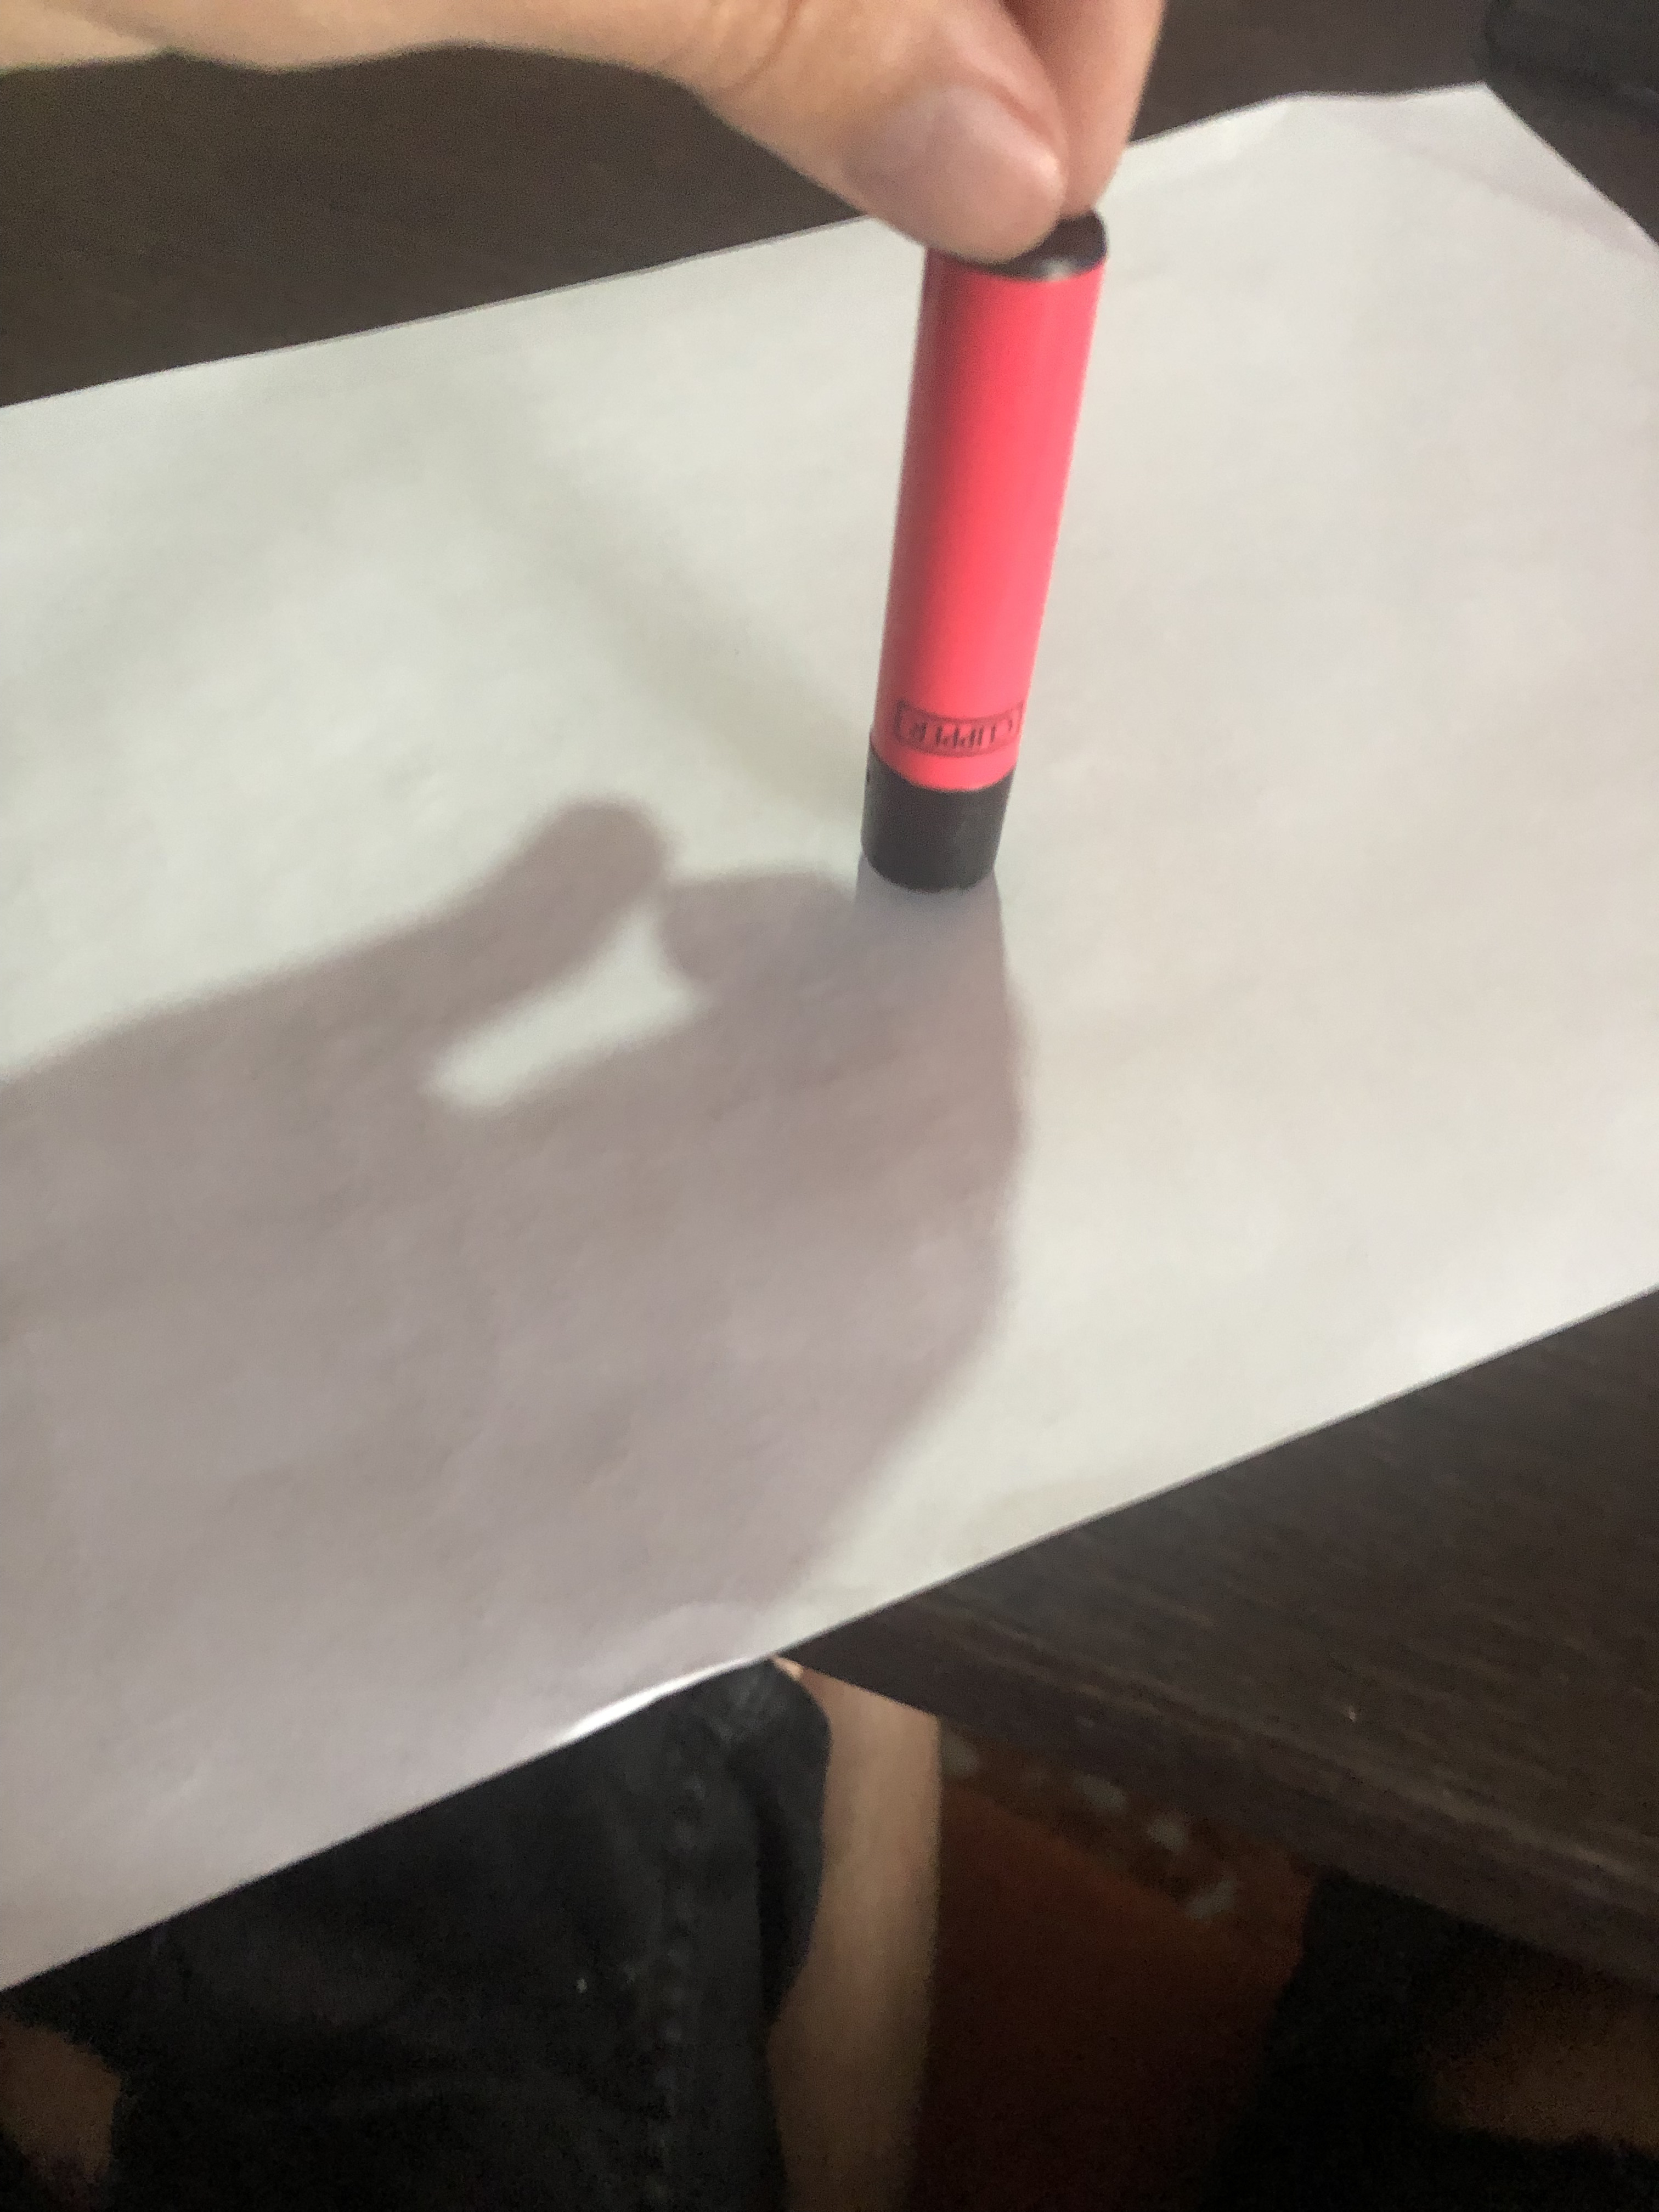Mechero: (826, 200, 1147, 921)
